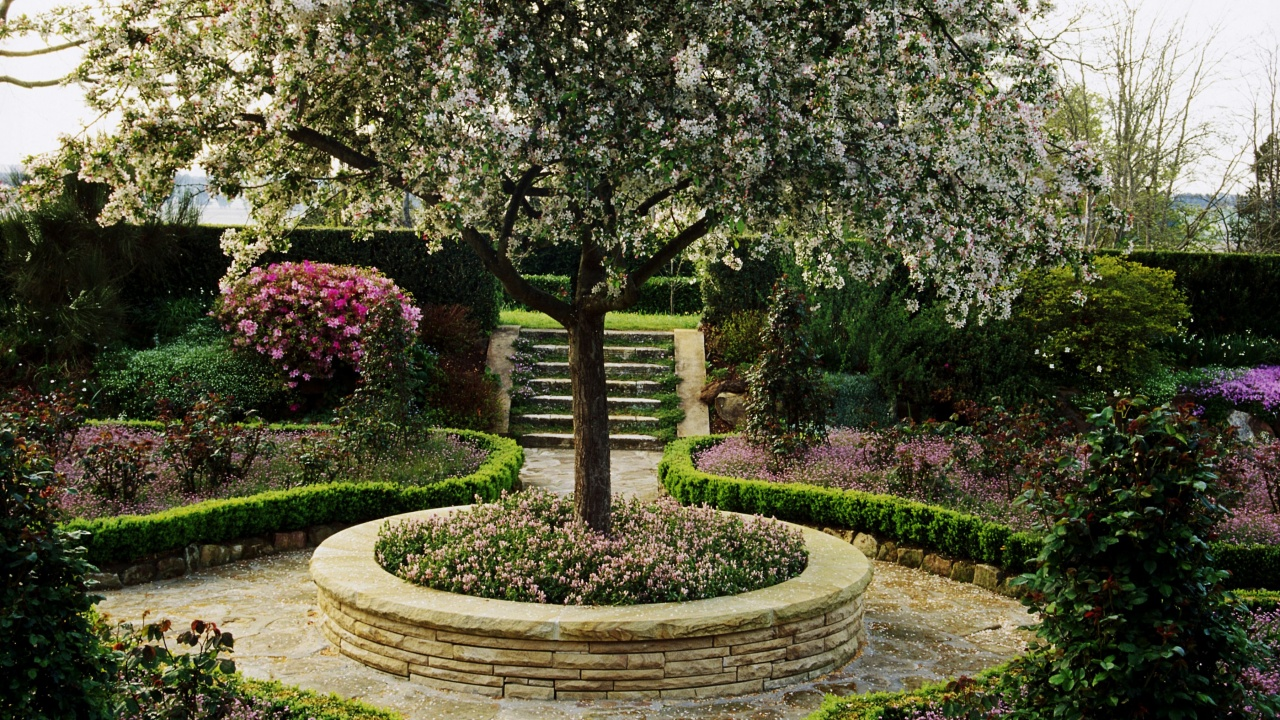tree: (63, 1, 1043, 507)
